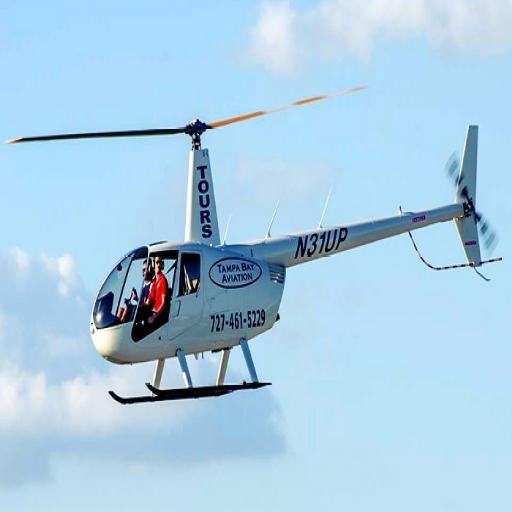helicopter: (2, 80, 503, 406)
